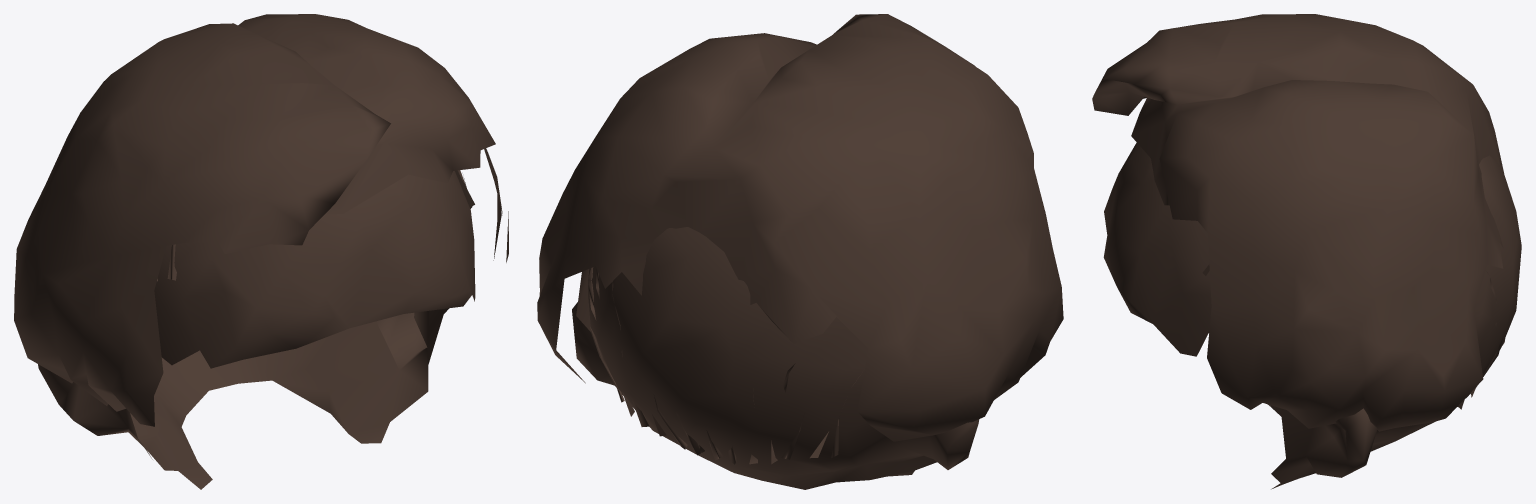
The model's file is bob.glb.
3 renders of one model, left to right at view 1: azimuth 30°, elevation 25°; view 2: azimuth 150°, elevation 25°; view 3: azimuth 270°, elevation 25°, orthographic.
Parts seen in each view (by area): view 1: Hair, HairScalp; view 2: Hair, HairScalp, HairPulledRootStrands; view 3: Hair, HairScalp.
Part boxes in pixels (bbox=[...]): Hair: bbox=[14, 14, 508, 426]; HairScalp: bbox=[38, 170, 475, 489]; Hair: bbox=[537, 14, 1063, 441]; HairScalp: bbox=[572, 227, 979, 489]; HairPulledRootStrands: bbox=[588, 267, 864, 464]; Hair: bbox=[1092, 14, 1504, 431]; HairScalp: bbox=[1103, 142, 1521, 489].
Bounding box in the file's own units: 0.5204 × 0.443 × 0.429.
